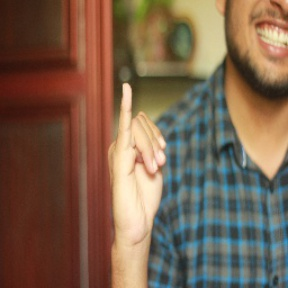I: (102, 83, 170, 242)
